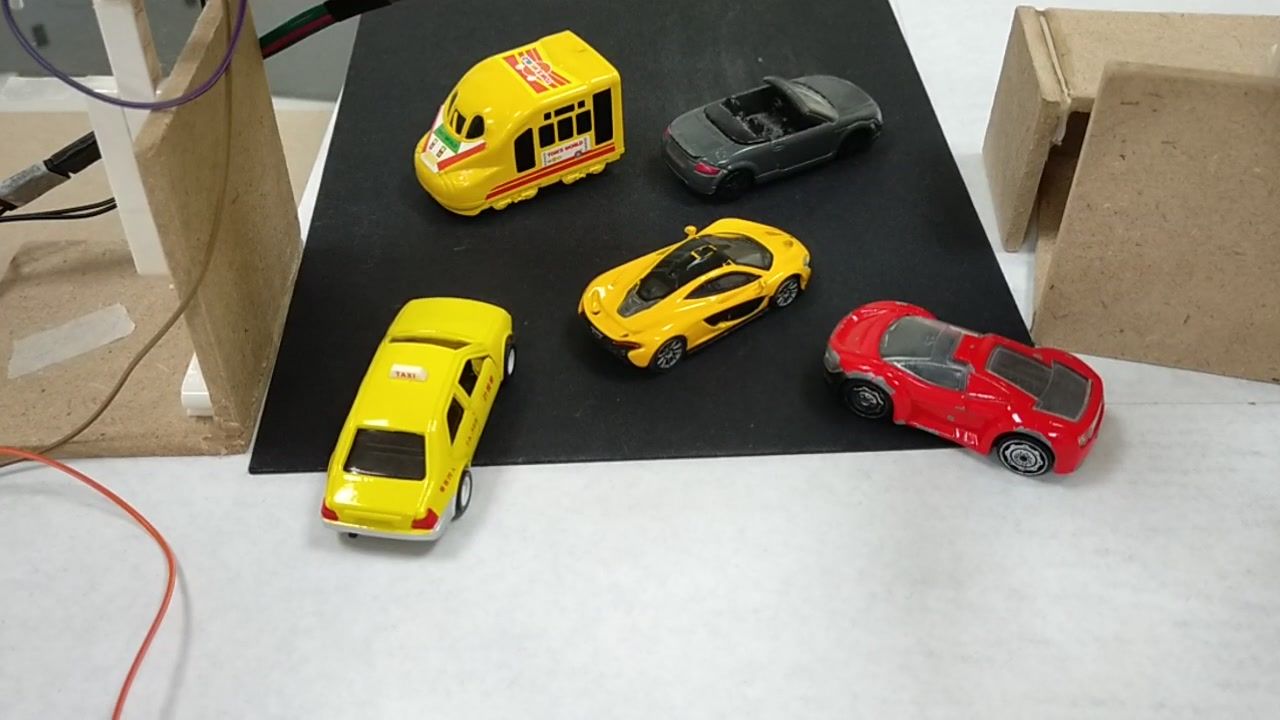car: (821, 287, 1103, 479), (320, 322, 520, 537), (584, 229, 803, 362), (658, 80, 888, 204)
